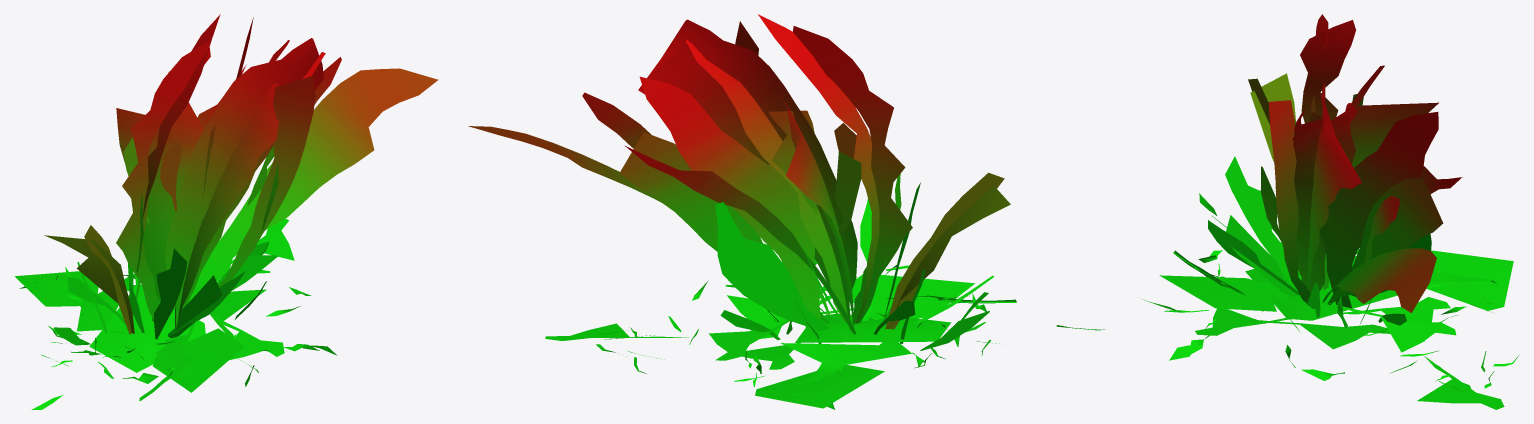
Rendered from Dead Shrubs_LOD0_Var7_vdknafgha.fbx.
The picture shows the model from 3 angles, left to right: view 1: azimuth 30°, elevation 25°; view 2: azimuth 150°, elevation 25°; view 3: azimuth 270°, elevation 25°; orthographic projection. The views are drawn at different scales.
Visible parts, largest first — view 1: _9jjd_Var7_LOD0; view 2: _9jjd_Var7_LOD0; view 3: _9jjd_Var7_LOD0.
Boxes of the visible parts, x1,y1,x2,y2 form: _9jjd_Var7_LOD0: (15,14,438,409); _9jjd_Var7_LOD0: (468,14,1105,409); _9jjd_Var7_LOD0: (1142,14,1518,409).
Bounding box in the file's own units: 96.46 × 53.77 × 57.18.
